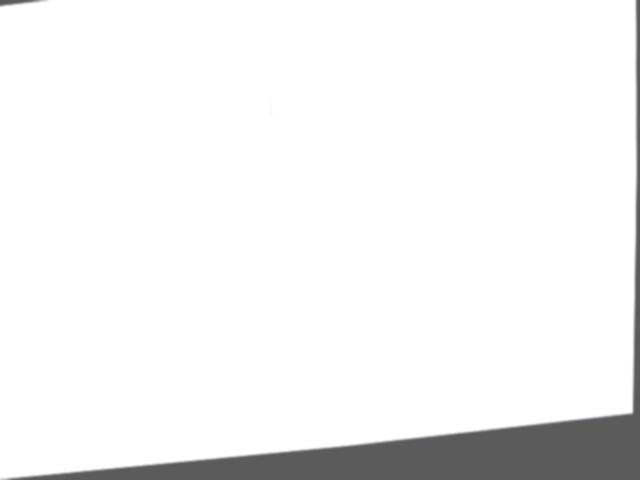iha: (254, 94, 282, 133)
